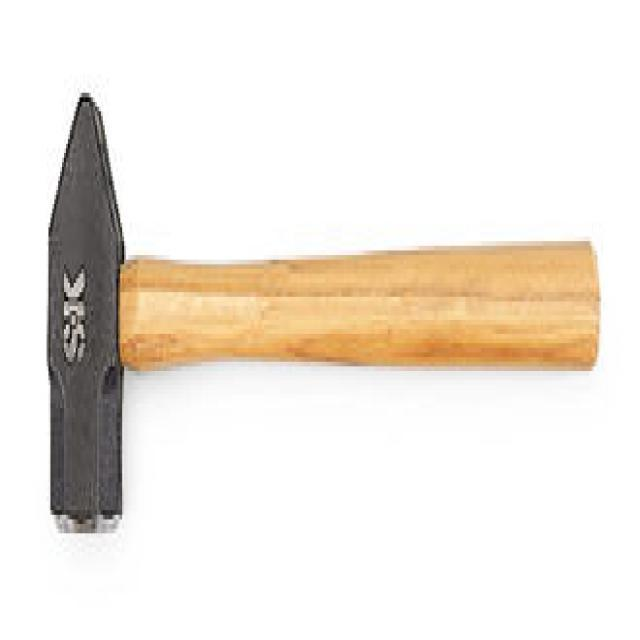hammer: (37, 81, 603, 557)
